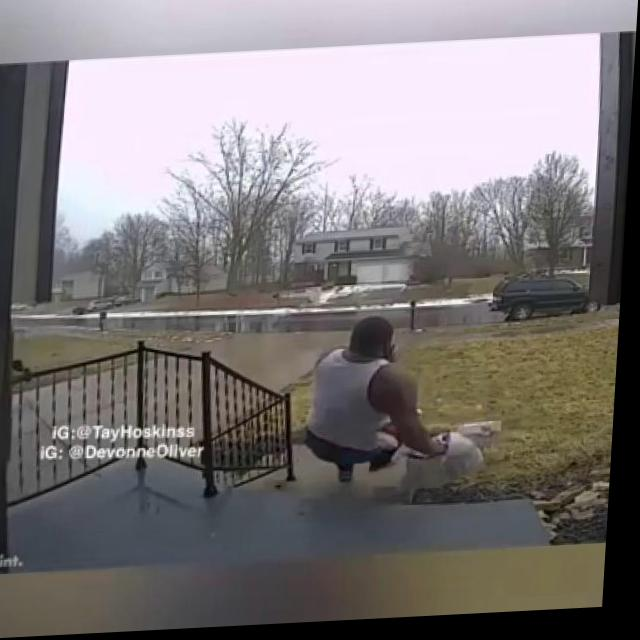fall: (302, 319, 457, 482)
